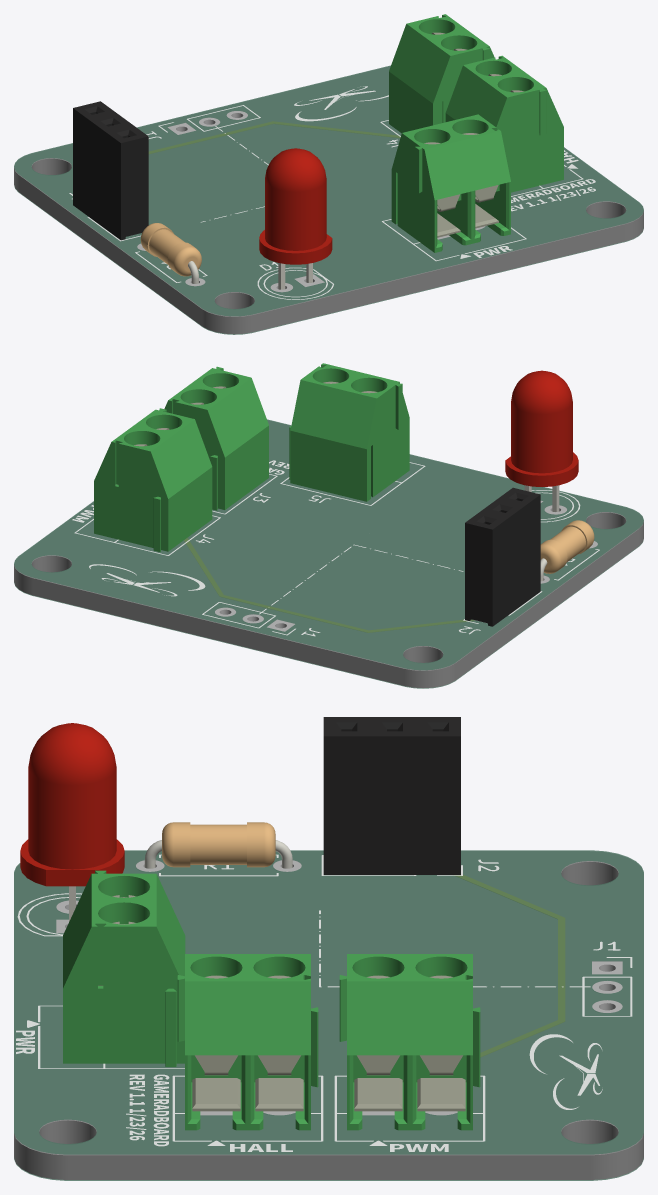
Rendered from Daughterboard.gltf.
3 renders of one model, top to bottom at view 1: azimuth 30°, elevation 25°; view 2: azimuth 150°, elevation 25°; view 3: azimuth 270°, elevation 25°, orthographic. The views are drawn at different scales.
Parts seen in each view (by area): view 1: =>[0:1:1:11], =>[0:1:1:10], J5, J3, J2, J4, D1, =>[0:1:1:9], R1, =>[0:1:1:8], =>[0:1:1:7]; view 2: =>[0:1:1:11], =>[0:1:1:10], J5, J4, J2, J3, D1, =>[0:1:1:9], R1, =>[0:1:1:8], =>[0:1:1:7]; view 3: =>[0:1:1:11], =>[0:1:1:10], J3, J4, J2, J5, D1, =>[0:1:1:9], R1, =>[0:1:1:8], =>[0:1:1:7].
Boxes of the visible parts, x1,y1,x2,y2 form: =>[0:1:1:11]: (14, 67, 643, 334); =>[0:1:1:10]: (14, 65, 643, 334); J5: (391, 114, 510, 252); J3: (445, 55, 563, 192); J2: (73, 101, 148, 240); J4: (389, 14, 494, 132); D1: (259, 148, 332, 289); =>[0:1:1:9]: (69, 86, 595, 299); R1: (140, 223, 201, 283); =>[0:1:1:8]: (131, 111, 485, 292); =>[0:1:1:7]: (149, 122, 399, 153); =>[0:1:1:11]: (14, 421, 643, 688); =>[0:1:1:10]: (14, 419, 643, 688); J5: (289, 363, 409, 501); J4: (94, 408, 212, 552); J2: (465, 487, 540, 626); J3: (164, 366, 268, 510); D1: (505, 370, 578, 511); =>[0:1:1:9]: (72, 460, 599, 636); R1: (540, 520, 594, 581); =>[0:1:1:8]: (215, 501, 597, 631); =>[0:1:1:7]: (184, 538, 473, 632); =>[0:1:1:11]: (14, 851, 643, 1179); =>[0:1:1:10]: (14, 850, 643, 1180); J3: (177, 954, 318, 1130); J4: (339, 954, 480, 1130); J2: (323, 717, 460, 874); J5: (63, 870, 185, 1066); D1: (20, 723, 124, 921); =>[0:1:1:9]: (16, 854, 632, 1151); R1: (144, 822, 292, 868); =>[0:1:1:8]: (56, 860, 622, 1115); =>[0:1:1:7]: (457, 875, 564, 1056).
Bounding box in the file's own units: 0.04 × 0.0151 × 0.035.
